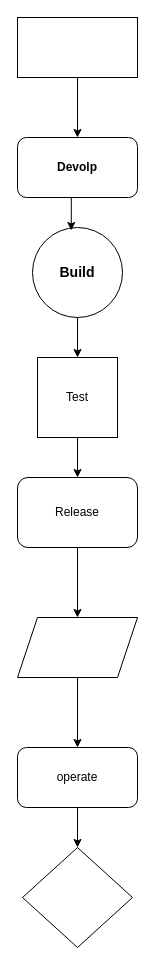
Image size: 155x965. Some labels were removed from this diagram. Each missing label, with the centre of its shape:
"Display" goes at point 77,647.
"Monitor" goes at point 77,897.
"Plan" goes at point 77,47.
